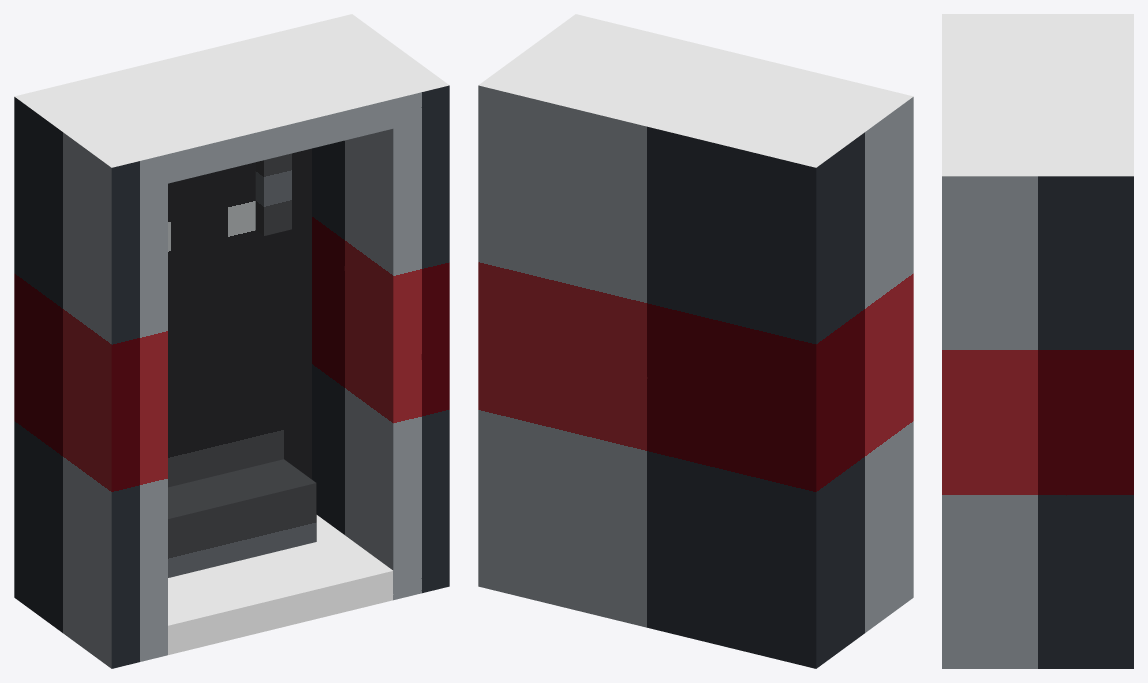
Rendered from extinguisher_cabinet_frame.glb.
The picture shows the model from 3 angles, left to right: view 1: azimuth 30°, elevation 25°; view 2: azimuth 150°, elevation 25°; view 3: azimuth 270°, elevation 25°; orthographic projection.
Parts seen in each view (by area): view 1: Lined_Cabinet, Bottom_Cradle, Mounting_Clip; view 2: Lined_Cabinet; view 3: Lined_Cabinet.
Part boxes in pixels (x1=…): Lined_Cabinet: x1=14, y1=14, x2=449, y2=668; Bottom_Cradle: x1=168, y1=459, x2=316, y2=577; Mounting_Clip: x1=255, y1=153, x2=291, y2=235; Lined_Cabinet: x1=478, y1=14, x2=913, y2=668; Lined_Cabinet: x1=942, y1=14, x2=1133, y2=668.
Bounding box in the file's own units: 0.3375 × 0.4781 × 0.1688.
Materials: 1 (1 with a texture image).
